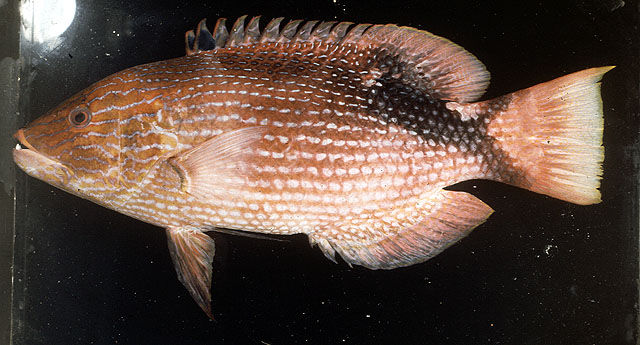fish: (12, 16, 617, 324)
